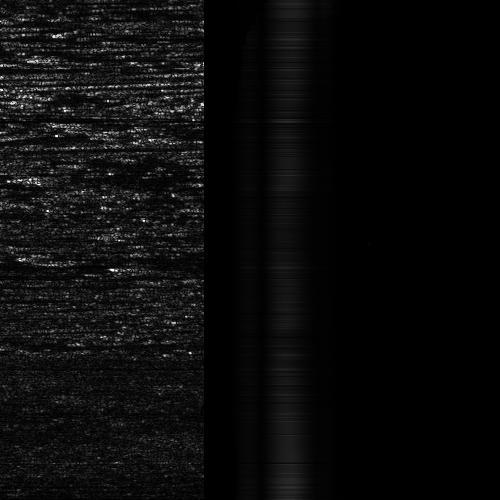shadow: (0, 64, 166, 73), (0, 296, 37, 301)
